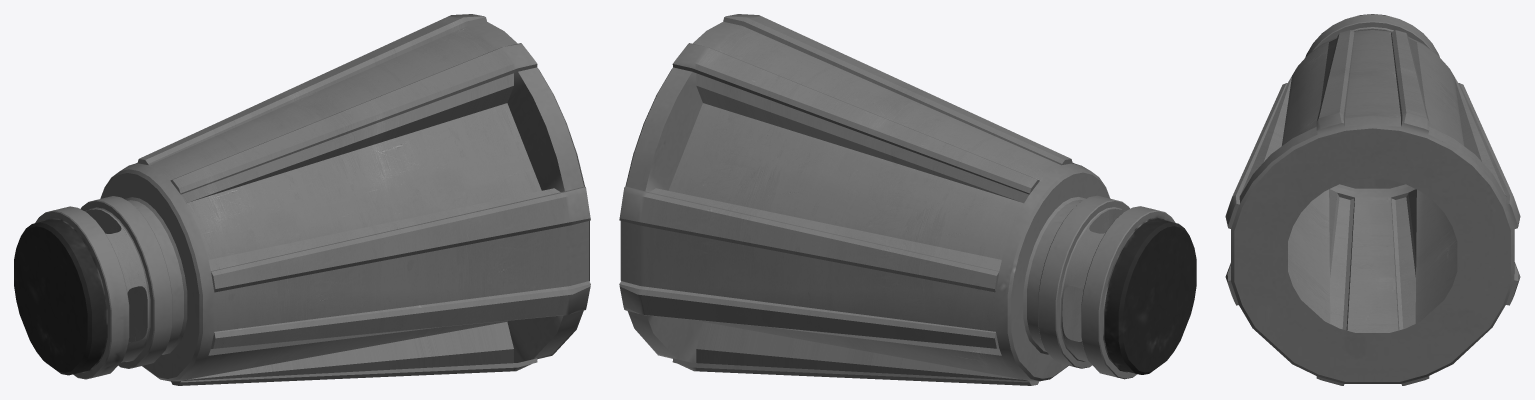
The model's file is pommel_11_c_a.glb.
The picture shows the model from 3 angles, left to right: view 1: azimuth 30°, elevation 25°; view 2: azimuth 150°, elevation 25°; view 3: azimuth 270°, elevation 25°; orthographic projection. The views are drawn at different scales.
Parts seen in each view (by area): view 1: pommel_11_c_a_lod0; view 2: pommel_11_c_a_lod0; view 3: pommel_11_c_a_lod0.
Part boxes in pixels (x1,y1,x2,y2): pommel_11_c_a_lod0: (14,14,590,385); pommel_11_c_a_lod0: (619,14,1196,385); pommel_11_c_a_lod0: (1225,14,1520,385).
Size of what is drawn, in the model's own units: 0.0467 by 0.0315 by 0.0315.
Materials: 1 (1 with a texture image).
